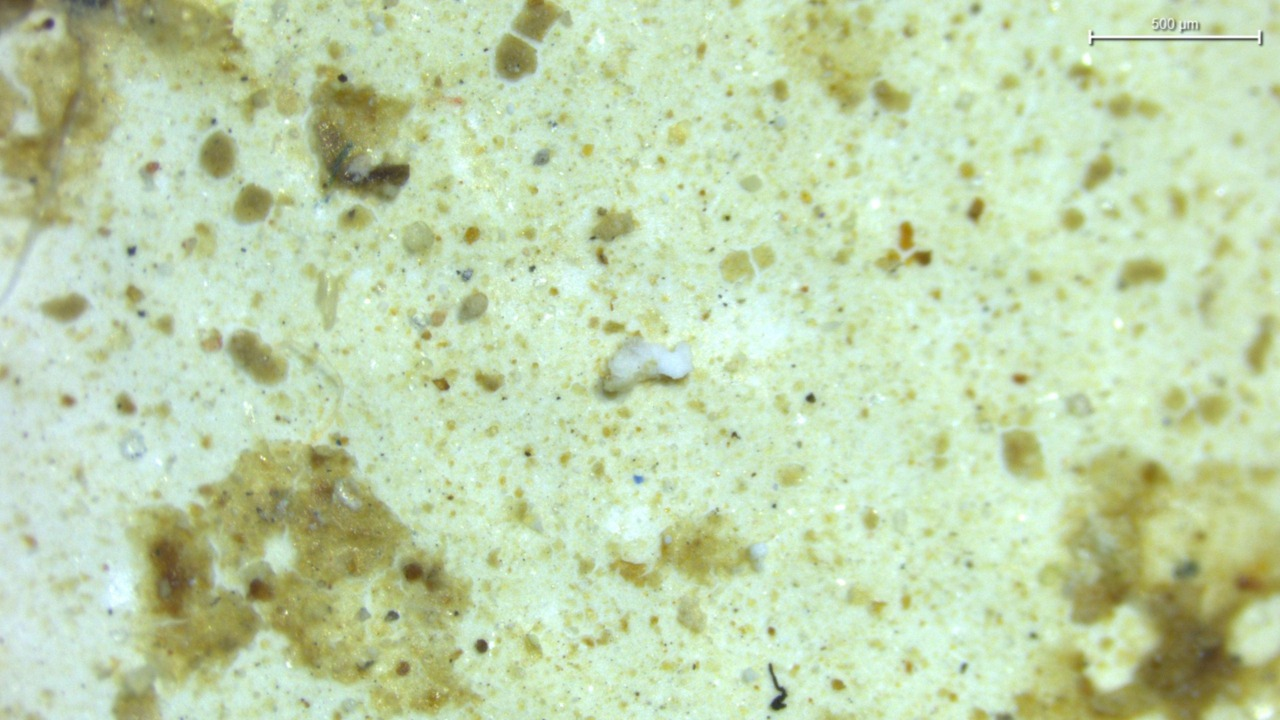microplastic_fragment: (601, 338, 692, 395)
